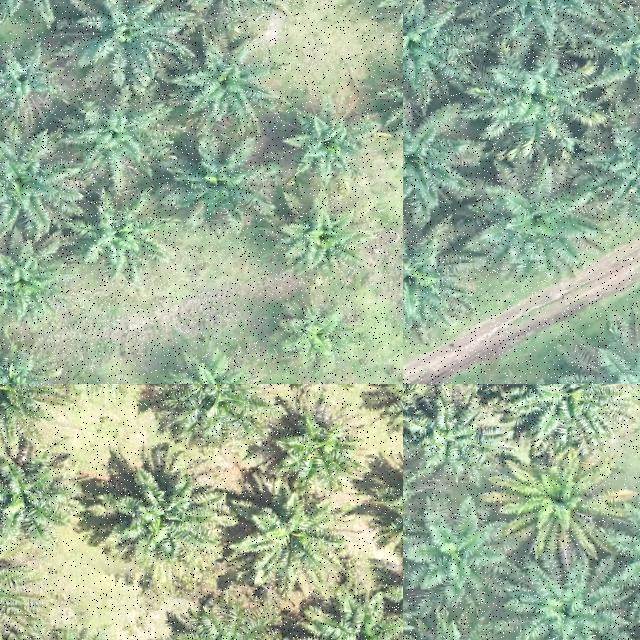Ganoderma: (524, 469, 600, 535)
